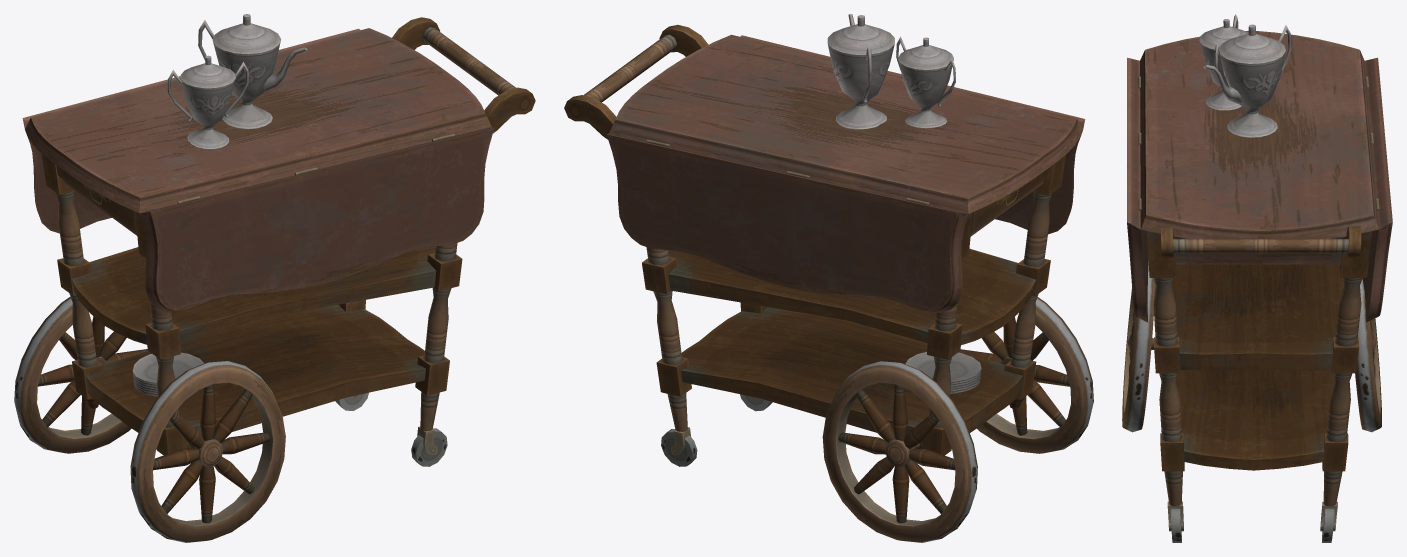
The model's file is trolley_cart_table_-_vintage_pbr.glb.
3 views of the same model, side by side, from view 1: azimuth 30°, elevation 25°; view 2: azimuth 150°, elevation 25°; view 3: azimuth 270°, elevation 25° (orthographic).
Visible parts, largest first — view 1: SM_TRV_CAS_TrolleyCartTable_bedroom_M_TRV_CAS_TrolleyCartTab; view 2: SM_TRV_CAS_TrolleyCartTable_bedroom_M_TRV_CAS_TrolleyCartTab; view 3: SM_TRV_CAS_TrolleyCartTable_bedroom_M_TRV_CAS_TrolleyCartTab.
Boxes of the visible parts, bbox=[...] form: SM_TRV_CAS_TrolleyCartTable_bedroom_M_TRV_CAS_TrolleyCartTab: bbox=[14, 14, 535, 542]; SM_TRV_CAS_TrolleyCartTable_bedroom_M_TRV_CAS_TrolleyCartTab: bbox=[564, 14, 1093, 542]; SM_TRV_CAS_TrolleyCartTable_bedroom_M_TRV_CAS_TrolleyCartTab: bbox=[1122, 14, 1392, 542].
Bounding box in the file's own units: 1.16 × 1.18 × 0.6484.
1 material, 1 textured.
